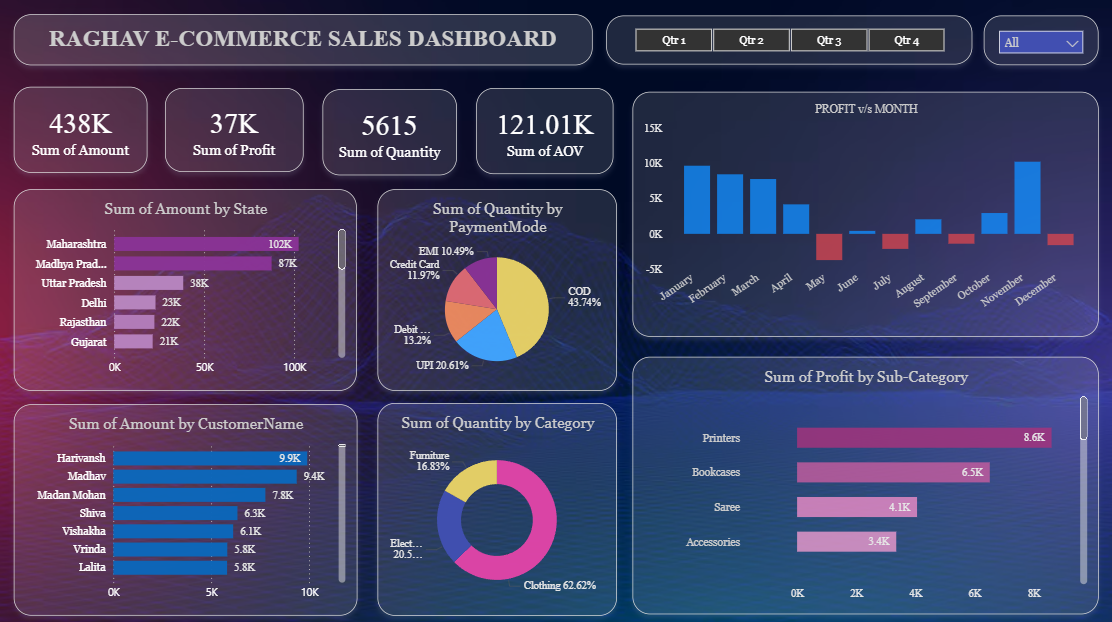

What the dashboard file says about the page in this screenshot:
{"tool":"powerbi","page":{"name":"Page 1","canvas":[1280,720],"ordinal":0},"visuals":[{"type":"textbox","box":[21.4,18.6,661.4,58.6],"z":0},{"type":"columnChart","title":"PROFIT v/s MONTH","fields":{"Y":["Details.Profit"],"Category":["Orders.Order Date.Variation.Date Hierarchy.Month"]},"box":[728.6,107.1,532.9,280],"z":1000},{"type":"clusteredBarChart","title":"Sum of Profit by Sub-Category","fields":{"Y":["Details.Profit"],"Category":["Details.Sub-Category"]},"box":[728.6,410,532.9,294.3],"z":2000},{"type":"donutChart","fields":{"Y":["Details.Quantity"],"Category":["Details.Category"]},"box":[436.7,463.3,273.3,243.3],"z":3000},{"type":"pieChart","fields":{"Y":["Details.Quantity"],"Category":["Details.PaymentMode"]},"box":[436.7,218.3,273.3,230],"z":4000},{"type":"card","fields":{"Values":["Details.Amount"]},"box":[21.4,101.4,152.9,98.6],"z":5000},{"type":"card","fields":{"Values":["Details.Profit"]},"box":[194.3,102.9,158.6,95.7],"z":6000},{"type":"card","fields":{"Values":["Details.Quantity"]},"box":[373.8,103.8,153.8,98.8],"z":7000},{"type":"card","fields":{"Values":["Details.Sum of Avg Order Value"]},"box":[550,102.9,157.1,98.6],"z":8000},{"type":"barChart","fields":{"Category":["Orders.State"],"Y":["Details.Amount"]},"box":[21.1,218.9,392.2,230],"z":9000},{"type":"clusteredBarChart","fields":{"Category":["Orders.CustomerName"],"Y":["Details.Amount"]},"box":[21.2,463.8,392.5,241.2],"z":10000},{"type":"slicer","fields":{"Values":["Orders.Order Date.Variation.Date Hierarchy.Quarter"]},"box":[698.6,20,418.6,55.7],"z":11000},{"type":"slicer","fields":{"Values":["Orders.City"]},"box":[1130,20,131.4,57.1],"z":12000}]}

Visuals, with their boxes in screenshot pixels (x1, y1, x2, y2), scaled from the page's 1280x720 canvas onto the 1112x622 screenshot:
textbox: x1=19 y1=16 x2=593 y2=67
"PROFIT v/s MONTH" columnChart: x1=633 y1=93 x2=1096 y2=334
"Sum of Profit by Sub-Category" clusteredBarChart: x1=633 y1=354 x2=1096 y2=608
donutChart - Details.Quantity x Details.Category: x1=379 y1=400 x2=617 y2=610
pieChart - Details.Quantity x Details.PaymentMode: x1=379 y1=189 x2=617 y2=387
card - Details.Amount: x1=19 y1=88 x2=151 y2=173
card - Details.Profit: x1=169 y1=89 x2=307 y2=172
card - Details.Quantity: x1=325 y1=90 x2=458 y2=175
card - Details.Sum of Avg Order Value: x1=478 y1=89 x2=614 y2=174
barChart - Orders.State x Details.Amount: x1=18 y1=189 x2=359 y2=388
clusteredBarChart - Orders.CustomerName x Details.Amount: x1=18 y1=401 x2=359 y2=609
slicer - Orders.Order Date.Variation.Date Hierarchy.Quarter: x1=607 y1=17 x2=971 y2=65
slicer - Orders.City: x1=982 y1=17 x2=1096 y2=67
